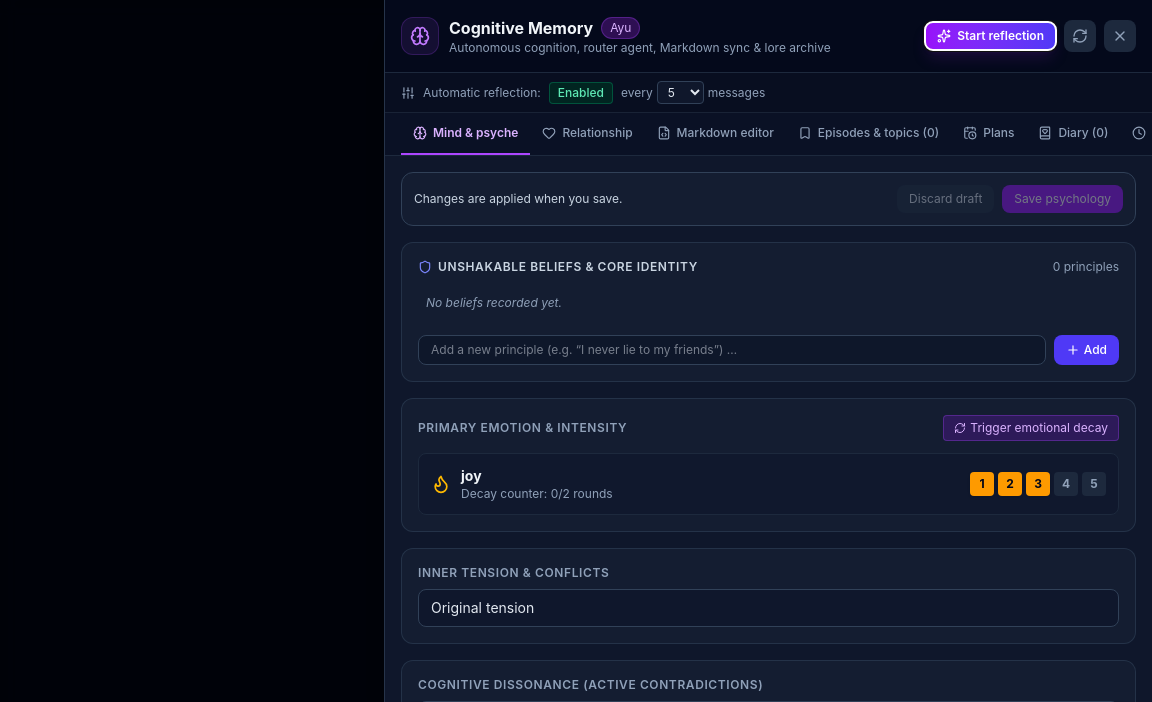
memory operations › shows reflection errors persistently, releases the busy flag and only reports success after retry
Click the button "Start reflection": (991, 36) [925, 22, 1056, 50]
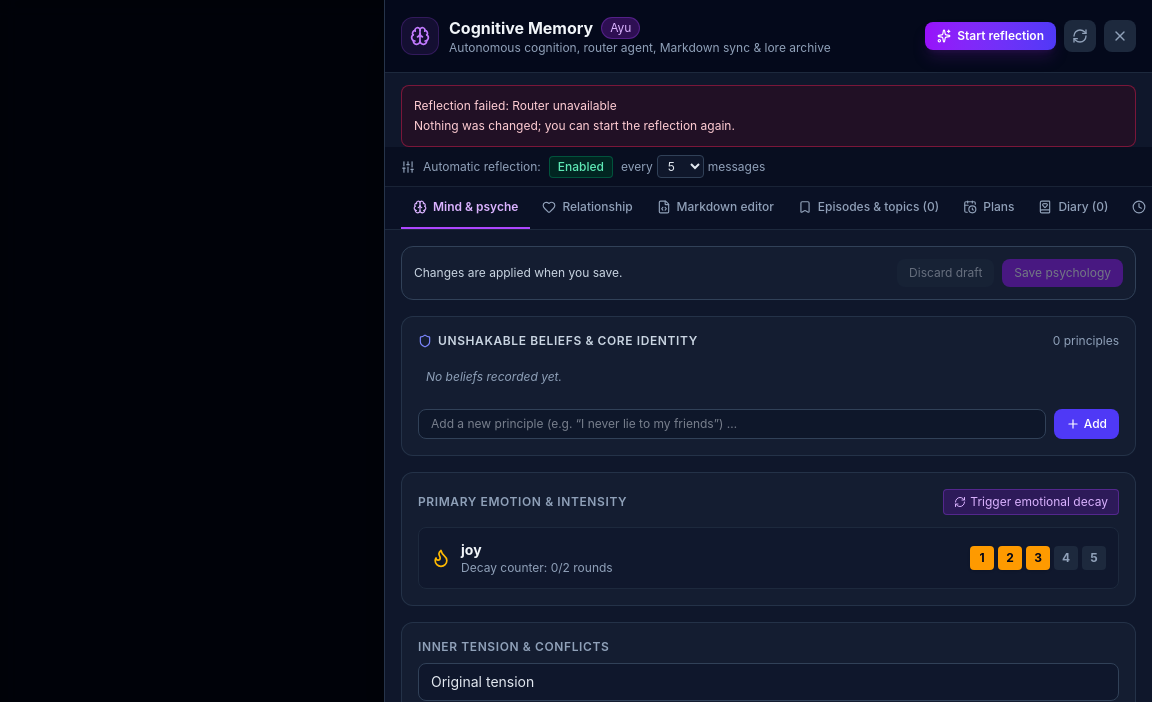
Check: the message is shown, box [401, 85, 1136, 147]
Check: the message shows "Reflection failed: Router unavailable", box [414, 98, 617, 113]
Check: the message shows "Nothing was changed", box [414, 118, 735, 133]
Click the button "Start reflection": (991, 36) [925, 22, 1056, 50]
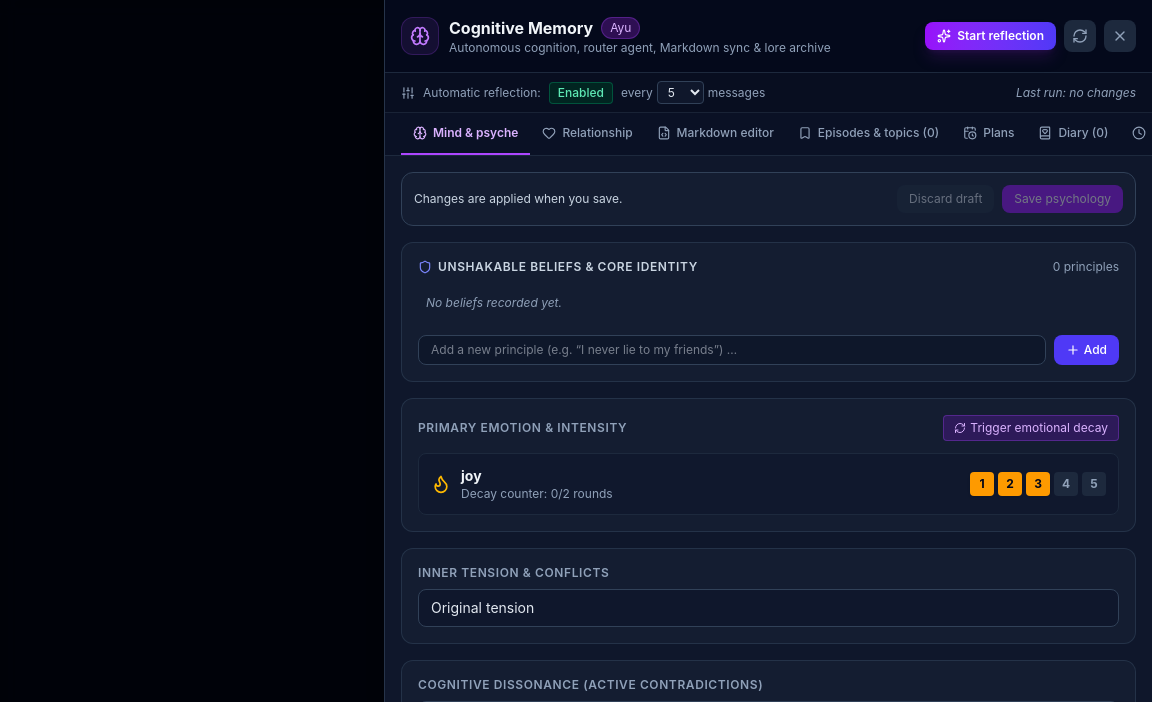
Check: the message is gone
